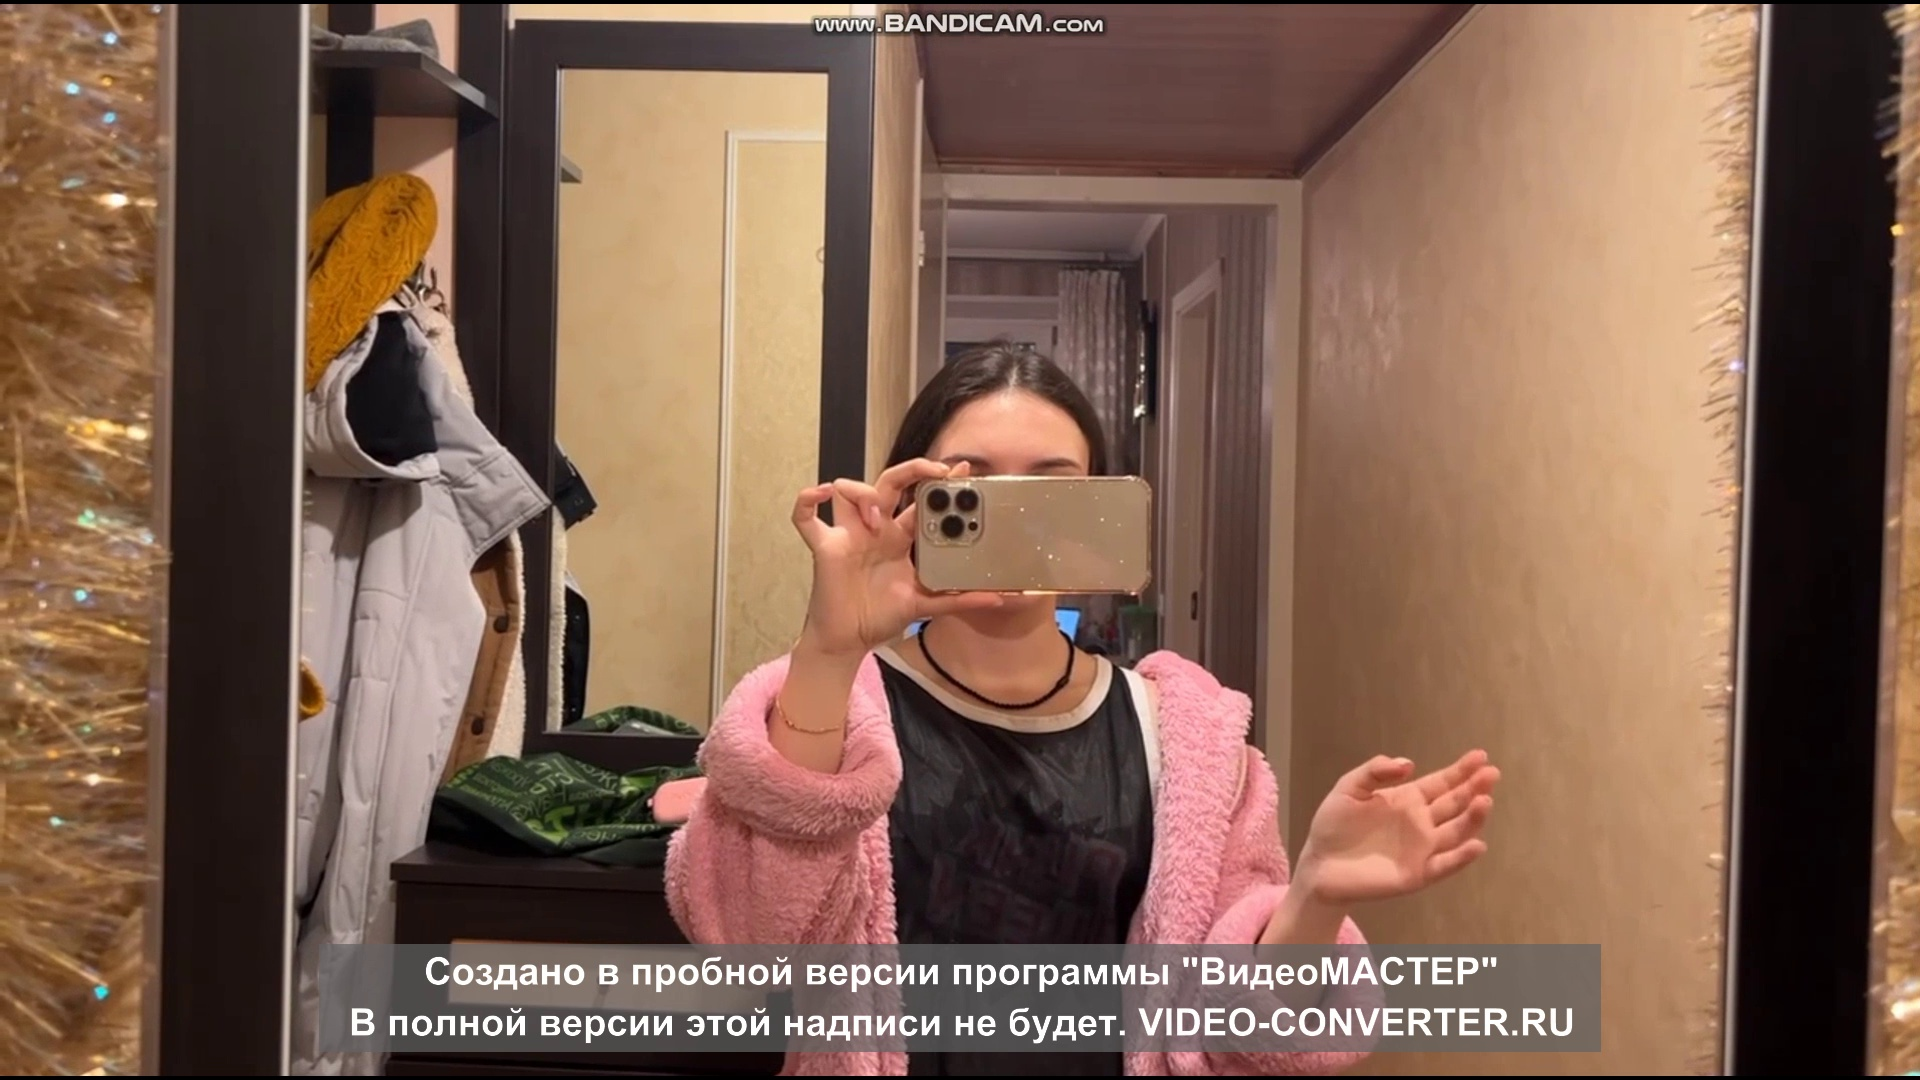Ладонь: (1300, 740, 1505, 907)
